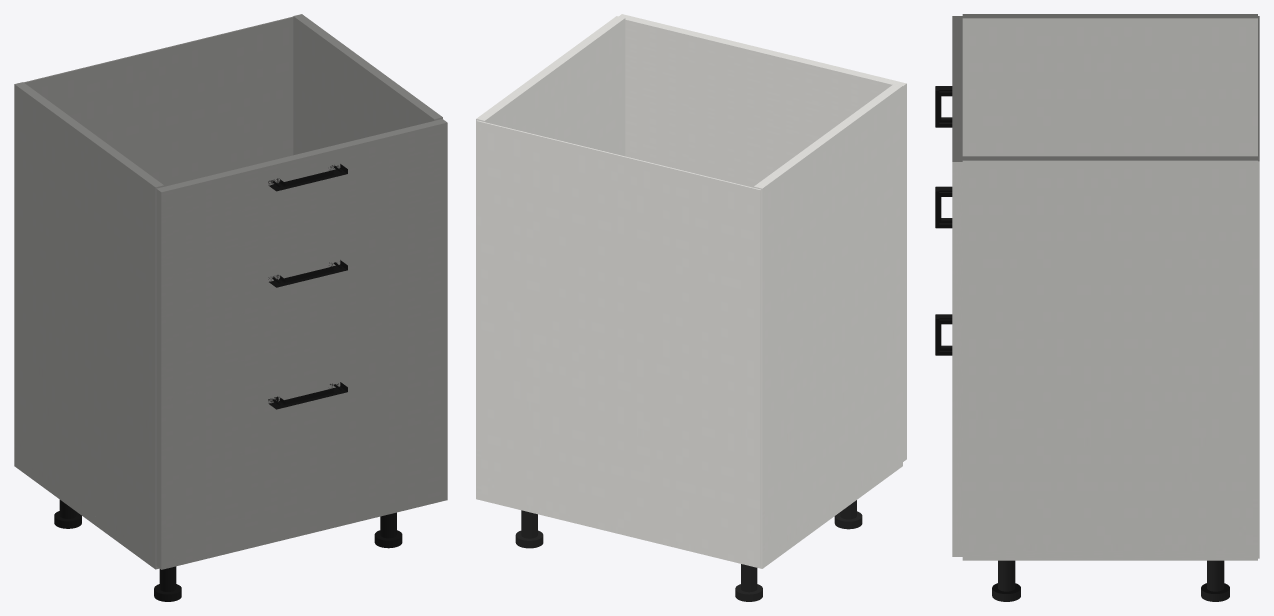
Rendered from 1003-HOB-60.glb.
3 renders of one model, left to right at view 1: azimuth 30°, elevation 25°; view 2: azimuth 150°, elevation 25°; view 3: azimuth 270°, elevation 25°, orthographic. The views are drawn at different scales.
Visible parts, largest first — view 1: door, carcass, handle, plinth; view 2: carcass, door, plinth; view 3: carcass, door, plinth, handle.
Part boxes in pixels (x1,y1,x2,y2): door: (156, 119, 447, 569); carcass: (14, 14, 442, 569); handle: (268, 164, 347, 409); plinth: (54, 500, 402, 601); carcass: (476, 16, 902, 568); door: (619, 14, 906, 461); plinth: (515, 500, 862, 601); carcass: (962, 14, 1259, 560); door: (952, 16, 962, 556); plinth: (992, 560, 1229, 601); handle: (935, 86, 952, 355).
Bounding box in the file's own units: 0.6 × 0.862 × 0.56.
4 materials, 4 textured.
